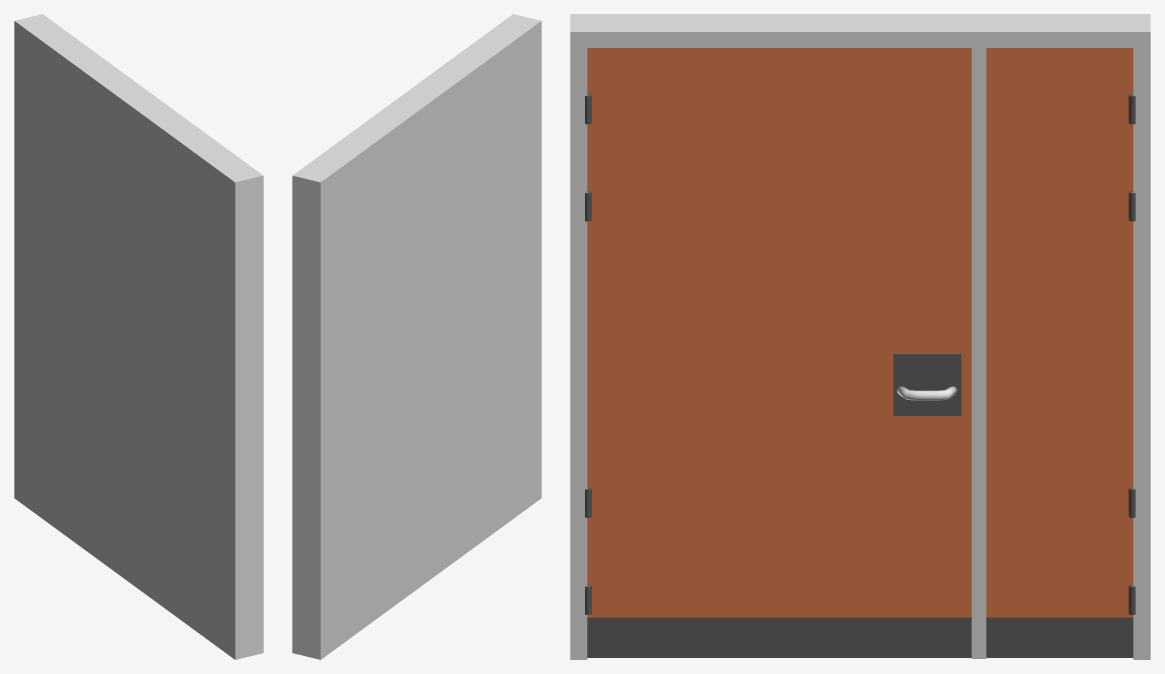
The model's file is HallwayDoor.fbx.
The picture shows the model from 3 angles, left to right: view 1: azimuth 30°, elevation 25°; view 2: azimuth 150°, elevation 25°; view 3: azimuth 270°, elevation 25°; orthographic projection. The views are drawn at different scales.
Parts seen in each view (by area): view 1: Door; view 2: Door; view 3: Door, Cube, Door.001.
Part boxes in pixels (box(x1,y1,x2,y2)): Door: box(14, 14, 263, 659); Door: box(292, 14, 541, 659); Door: box(570, 14, 1150, 659); Cube: box(971, 48, 986, 658); Door.001: box(585, 94, 1135, 614).
Size of the model in its own units: 16.71 by 205 by 172.
